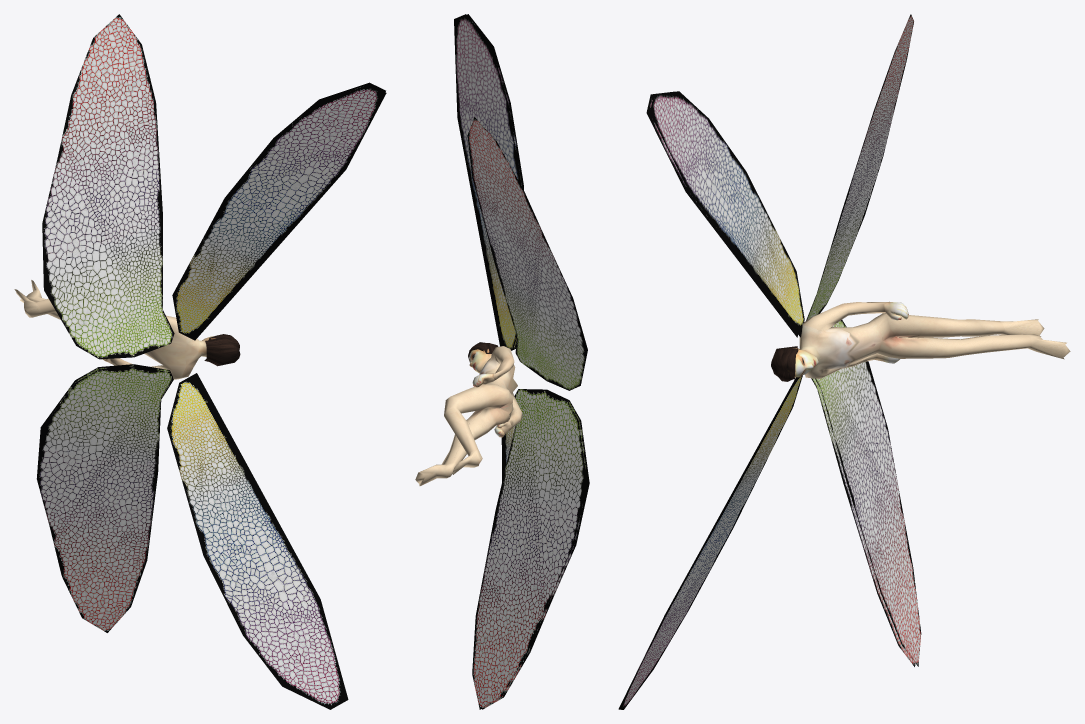
Rendered from angel_000025.obj.
3 views of the same model, side by side, from view 1: azimuth 30°, elevation 25°; view 2: azimuth 150°, elevation 25°; view 3: azimuth 270°, elevation 25° (orthographic). The views are drawn at different scales.
Parts seen in each view (by area): view 1: Plane.002, Plane.001, Plane, Plane.003, body.001_omino.012, hair.003_omino.013; view 2: Plane.001, Plane.002, Plane.003, body.001_omino.012, Plane; view 3: Plane.001, Plane.003, body.001_omino.012, Plane.002, Plane, hair.003_omino.013.
Boxes of the visible parts, bbox=[...] form: Plane.002: bbox=[42, 14, 174, 359]; Plane.001: bbox=[36, 364, 173, 632]; Plane: bbox=[167, 373, 348, 709]; Plane.003: bbox=[172, 82, 386, 340]; body.001_omino.012: bbox=[14, 280, 215, 379]; hair.003_omino.013: bbox=[204, 334, 240, 366]; Plane.001: bbox=[472, 389, 589, 709]; Plane.002: bbox=[467, 117, 587, 390]; Plane.003: bbox=[454, 14, 523, 350]; body.001_omino.012: bbox=[415, 346, 522, 485]; Plane: bbox=[501, 425, 515, 481]; Plane.001: bbox=[811, 320, 921, 666]; Plane.003: bbox=[646, 91, 804, 337]; body.001_omino.012: bbox=[787, 301, 1070, 378]; Plane.002: bbox=[806, 14, 913, 320]; Plane: bbox=[618, 375, 802, 709]; hair.003_omino.013: bbox=[771, 346, 799, 381].
Bounding box in the file's own units: 2.7 × 6.54 × 4.07.
